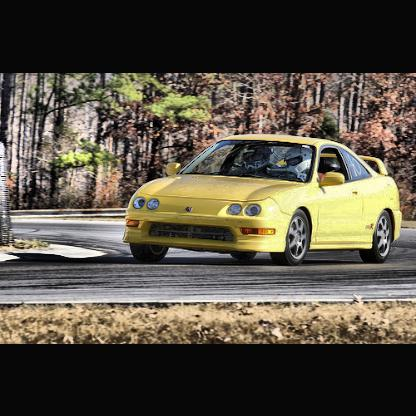Acura Integra Type R 2001: (122, 134, 404, 269)
